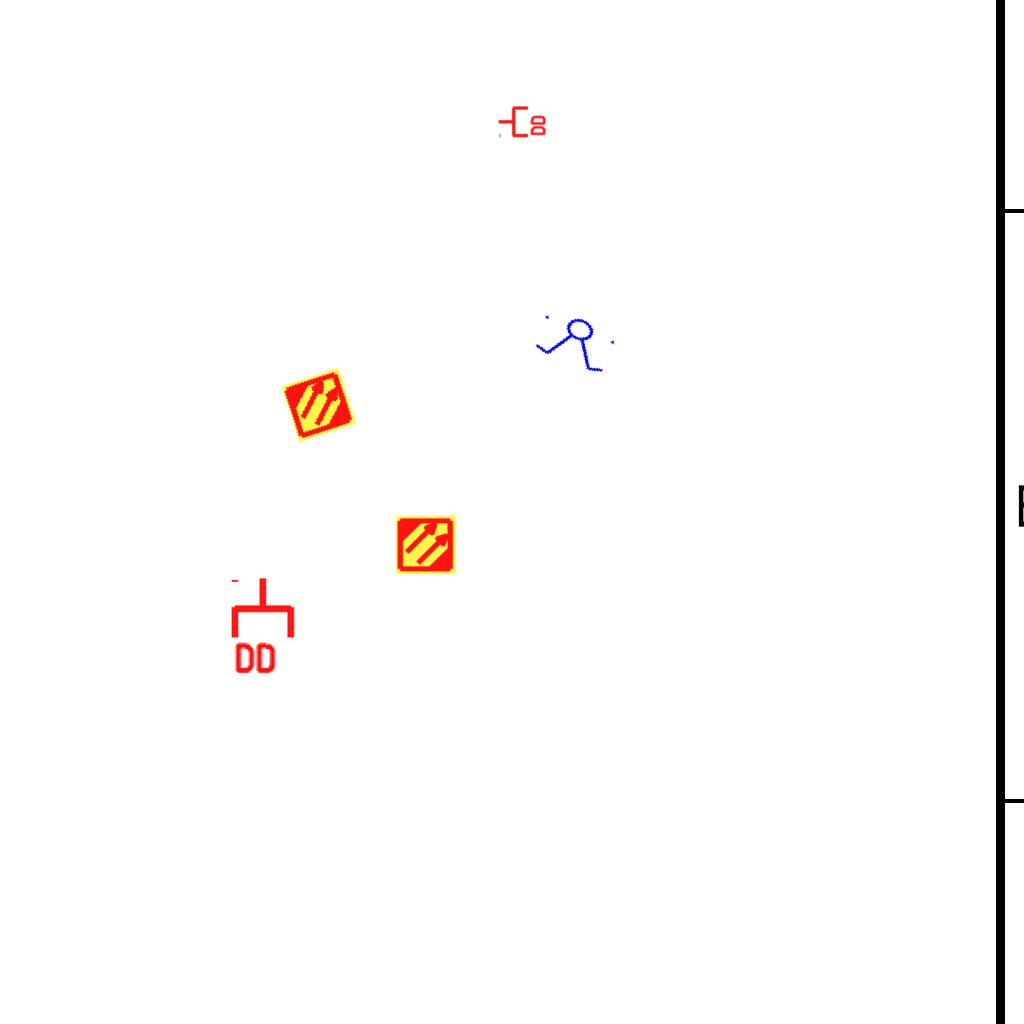ASR_Ansaugrauchmelder: (279, 365, 359, 445), (395, 514, 457, 576)
Datenanschluss_zweifach: (230, 575, 299, 678), (497, 104, 548, 138)
Serienschalter: (528, 304, 624, 380)
